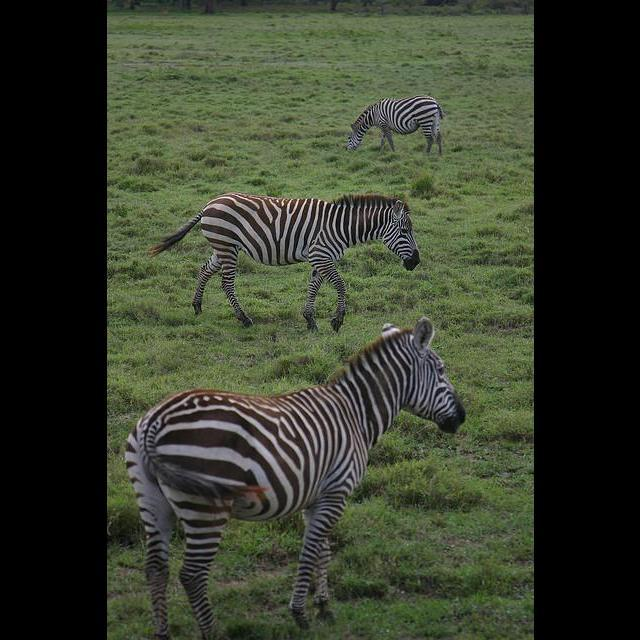zebra: (118, 316, 466, 640), (147, 192, 421, 332), (346, 94, 444, 158)
